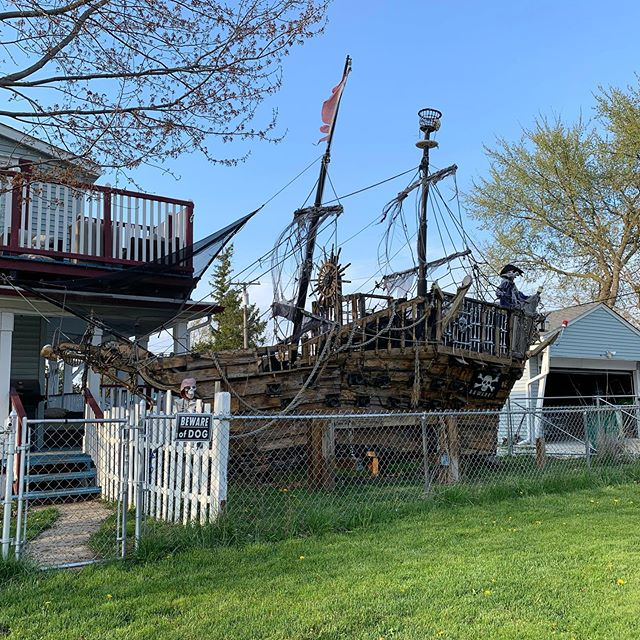boat: (61, 257, 543, 472)
building: (1, 145, 203, 540), (514, 304, 640, 447)
grass: (83, 491, 640, 640)
sky: (301, 1, 640, 171)
tree: (1, 1, 294, 179), (462, 87, 640, 292)
